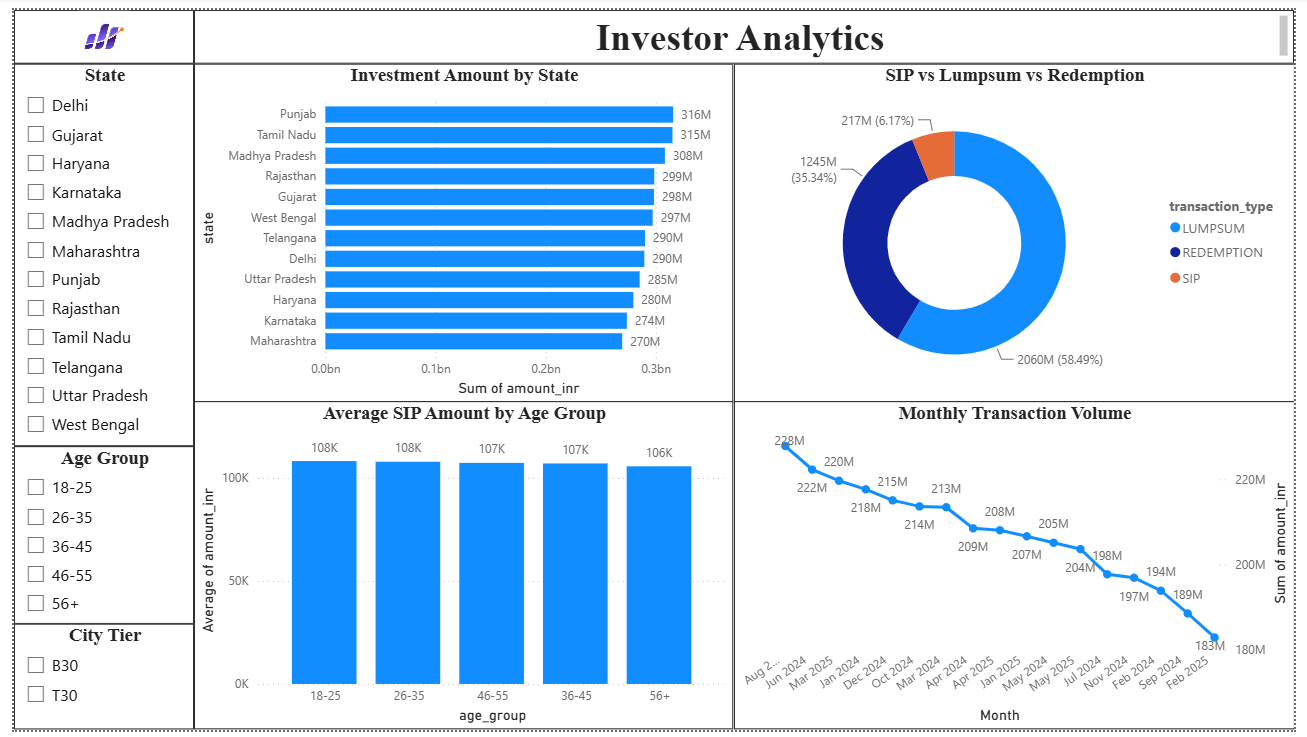

What the dashboard file says about the page in this screenshot:
{"tool":"powerbi","page":{"name":"Investor Analytics","canvas":[1280,720],"ordinal":2},"visuals":[{"type":"textbox","box":[180.2,0,1100,53.5],"z":0},{"type":"clusteredBarChart","title":"Investment Amount by State","fields":{"Category":["08_investor_transactions_clean.state"],"Y":["Sum(08_investor_transactions_clean.amount_inr)"]},"box":[180.2,53.5,539.5,338.4],"z":1000},{"type":"donutChart","title":"SIP vs Lumpsum vs Redemption","fields":{"Category":["08_investor_transactions_clean.transaction_type"],"Y":["Sum(08_investor_transactions_clean.amount_inr)"]},"box":[719.8,53.5,560.5,338.4],"z":2000},{"type":"clusteredColumnChart","title":"Average SIP Amount by Age Group","fields":{"Category":["08_investor_transactions_clean.age_group"],"Y":["Avg(08_investor_transactions_clean.amount_inr)"]},"box":[180.2,391.9,539.5,327.9],"z":3000},{"type":"lineChart","title":"Monthly Transaction Volume","fields":{"Category":["08_investor_transactions_clean.Month"],"Y2":["Sum(08_investor_transactions_clean.amount_inr)"]},"box":[719.8,391.9,560.5,327.9],"z":4000},{"type":"slicer","title":"State","fields":{"Values":["08_investor_transactions_clean.state"]},"box":[0,53.5,180.2,382.6],"z":5000},{"type":"slicer","title":"Age Group","fields":{"Values":["08_investor_transactions_clean.age_group"]},"box":[0,436,180.2,177.9],"z":6000},{"type":"slicer","title":"City Tier","fields":{"Values":["08_investor_transactions_clean.city_tier"]},"box":[0,614,180.2,105.8],"z":7000},{"type":"image","box":[0,0,180.2,53.5],"z":7001}]}

Visuals, with their boxes in screenshot pixels (x1, y1, x2, y2), scaled from the page's 1280x720 canvas onto the 1307x737 screenshot:
textbox: (left=184, top=0, right=1306, bottom=55)
"Investment Amount by State" clusteredBarChart: (left=184, top=55, right=735, bottom=401)
"SIP vs Lumpsum vs Redemption" donutChart: (left=735, top=55, right=1306, bottom=401)
"Average SIP Amount by Age Group" clusteredColumnChart: (left=184, top=401, right=735, bottom=736)
"Monthly Transaction Volume" lineChart: (left=735, top=401, right=1306, bottom=736)
"State" slicer: (left=0, top=55, right=184, bottom=446)
"Age Group" slicer: (left=0, top=446, right=184, bottom=628)
"City Tier" slicer: (left=0, top=628, right=184, bottom=736)
image: (left=0, top=0, right=184, bottom=55)
